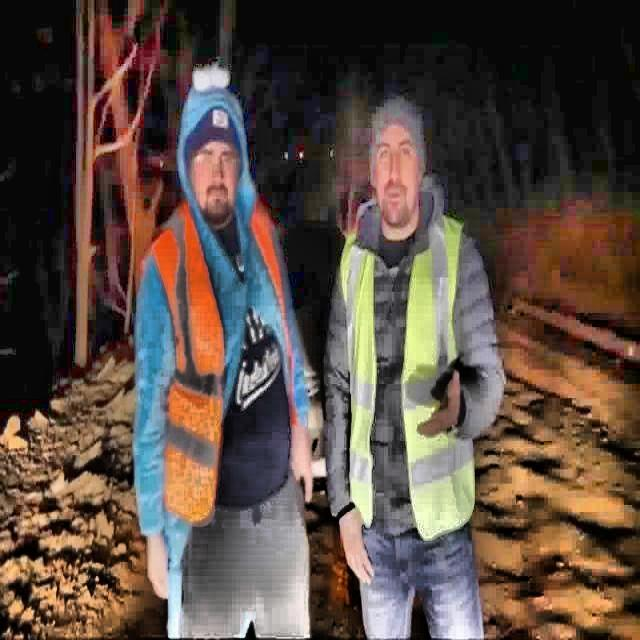safety_jacket: (152, 195, 296, 529), (338, 213, 476, 541)
